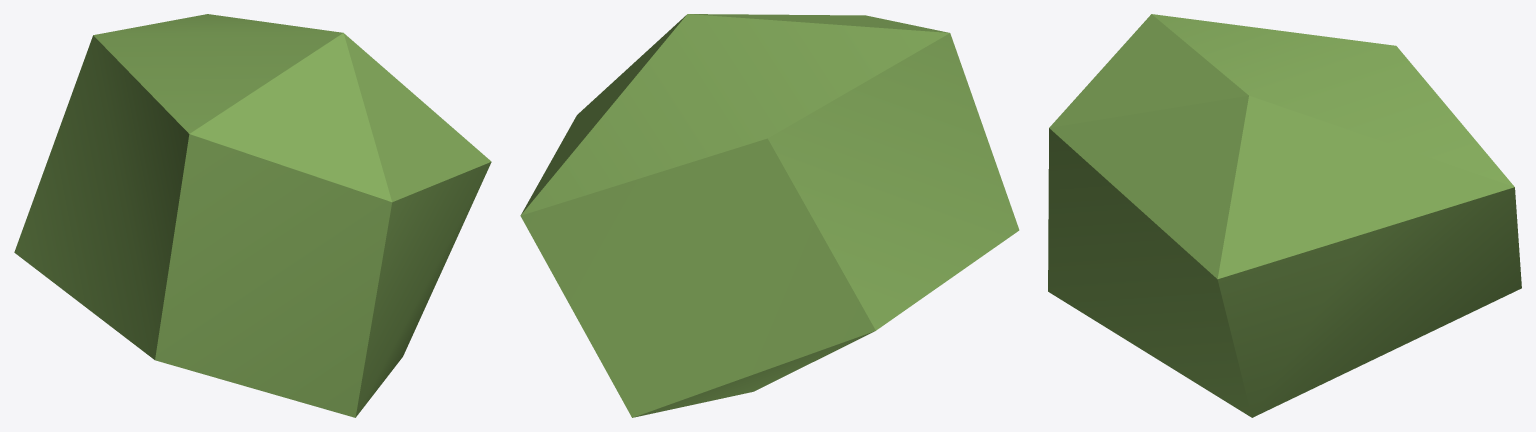
File: Vegetation_Bush_Small_01.fbx
3 renders of one model, left to right at view 1: azimuth 30°, elevation 25°; view 2: azimuth 150°, elevation 25°; view 3: azimuth 270°, elevation 25°, orthographic. The views are drawn at different scales.
Visible parts, largest first — view 1: Vegetation_Bush_Small_01; view 2: Vegetation_Bush_Small_01; view 3: Vegetation_Bush_Small_01.
Part boxes in pixels (x1,y1,x2,y2): Vegetation_Bush_Small_01: [14, 14, 491, 417]; Vegetation_Bush_Small_01: [520, 14, 1019, 417]; Vegetation_Bush_Small_01: [1048, 14, 1521, 417].
Size of the model in its own units: 28.68 by 23.74 by 34.41.
